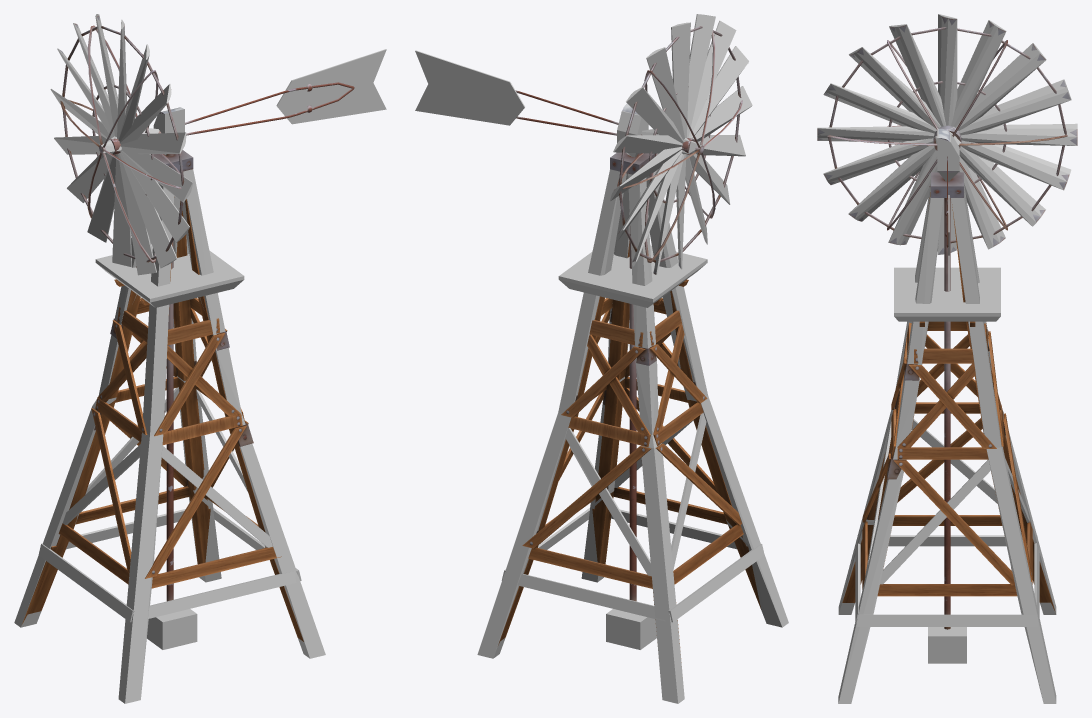
The model's file is SM_WindMill01.fbx.
3 views of the same model, side by side, from view 1: azimuth 30°, elevation 25°; view 2: azimuth 150°, elevation 25°; view 3: azimuth 270°, elevation 25° (orthographic).
Parts seen in each view (by area): view 1: SM_WindMill01_ConvexHulls, SM_WindMill01; view 2: SM_WindMill01_ConvexHulls, SM_WindMill01; view 3: SM_WindMill01_ConvexHulls, SM_WindMill01.
Boxes of the visible parts, bbox=[...] form: SM_WindMill01_ConvexHulls: bbox=[14, 14, 386, 703]; SM_WindMill01: bbox=[22, 15, 354, 641]; SM_WindMill01_ConvexHulls: bbox=[415, 14, 788, 703]; SM_WindMill01: bbox=[498, 26, 761, 662]; SM_WindMill01_ConvexHulls: bbox=[817, 14, 1077, 703]; SM_WindMill01: bbox=[817, 16, 1077, 629].
Size of the model in its own units: 704 by 509 by 1327.
Materials: 2 (1 with a texture image).
